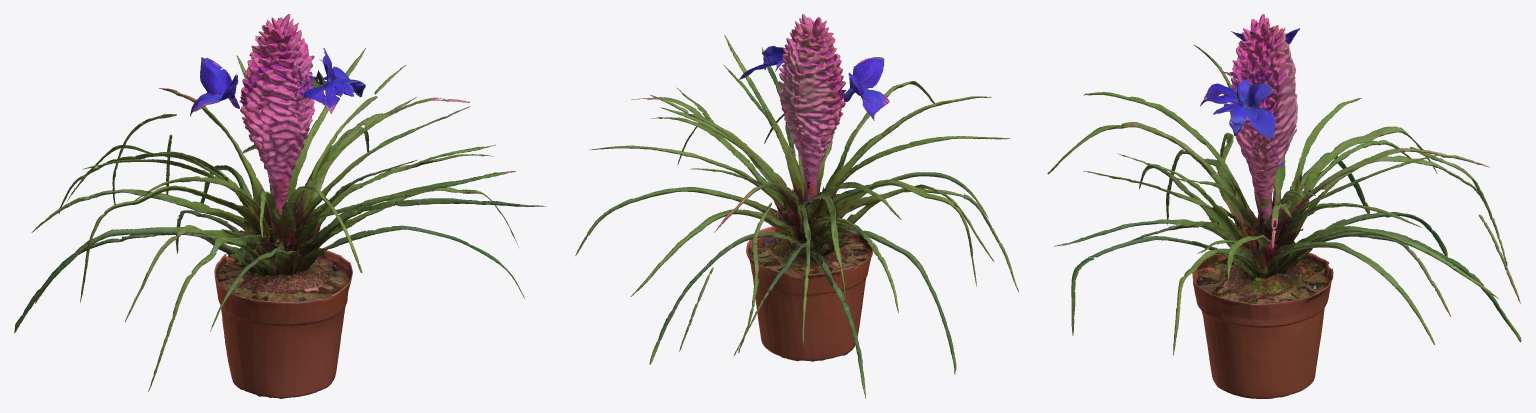
The model's file is Tillandsia3dModel.glb.
3 renders of one model, left to right at view 1: azimuth 30°, elevation 25°; view 2: azimuth 150°, elevation 25°; view 3: azimuth 270°, elevation 25°, orthographic. The views are drawn at different scales.
Size of the model in its own units: 1.95 by 1.65 by 1.97.
Materials: 1 (1 with a texture image).
